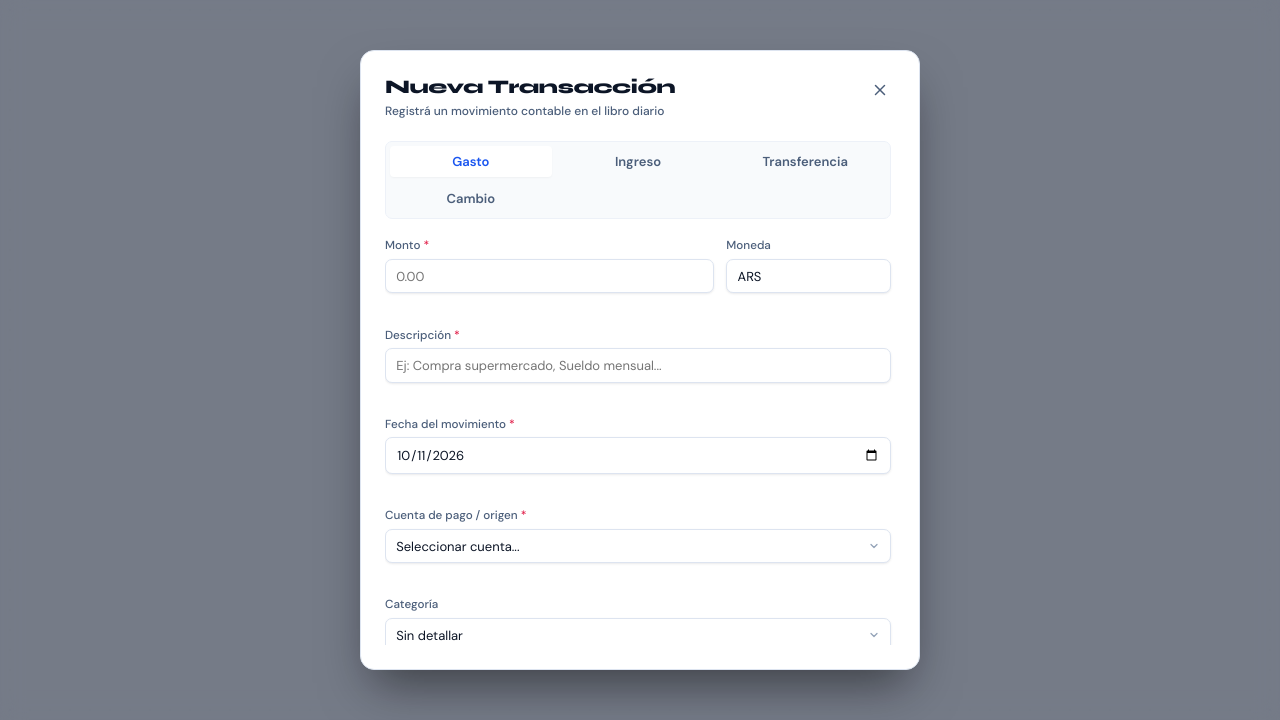
Test: TransactionFormModal - Reparto previsto › con el acuerdo desactualizado muestra el motivo y deshabilita Guardar
Type "100.01" into the number field labelled "Monto *" at (550, 276), box [385,259,714,294]
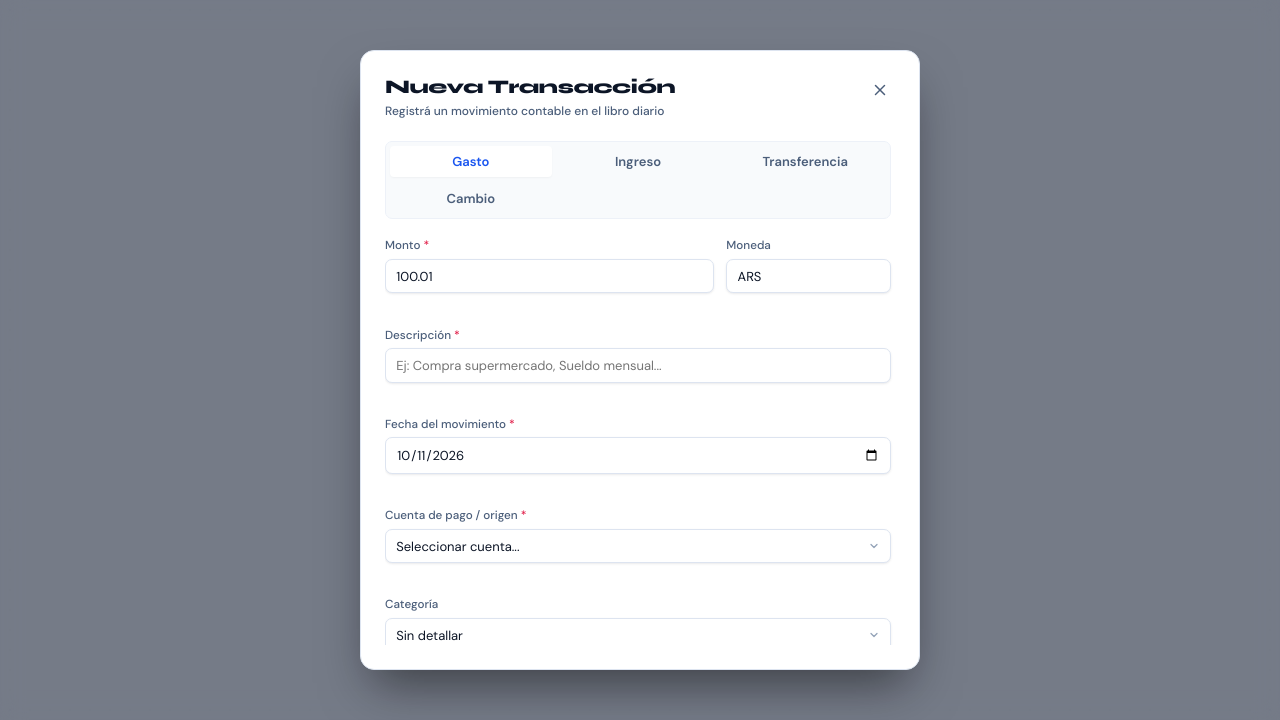
Select "Caja (asset)" in the dropdown labelled "Cuenta de pago / origen *" at (638, 546), box [385,529,891,563]
(page scrolled)
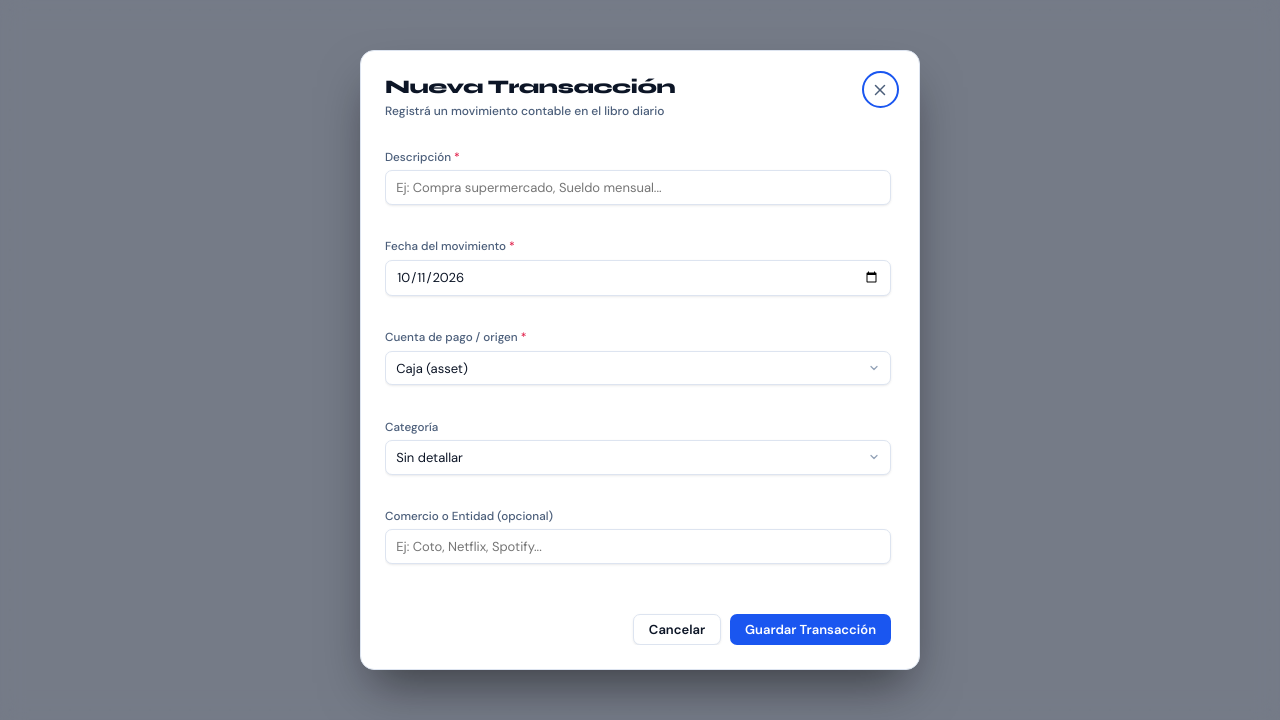
Check: the button "Guardar Transacción" is disabled, box [730,614,891,645]
